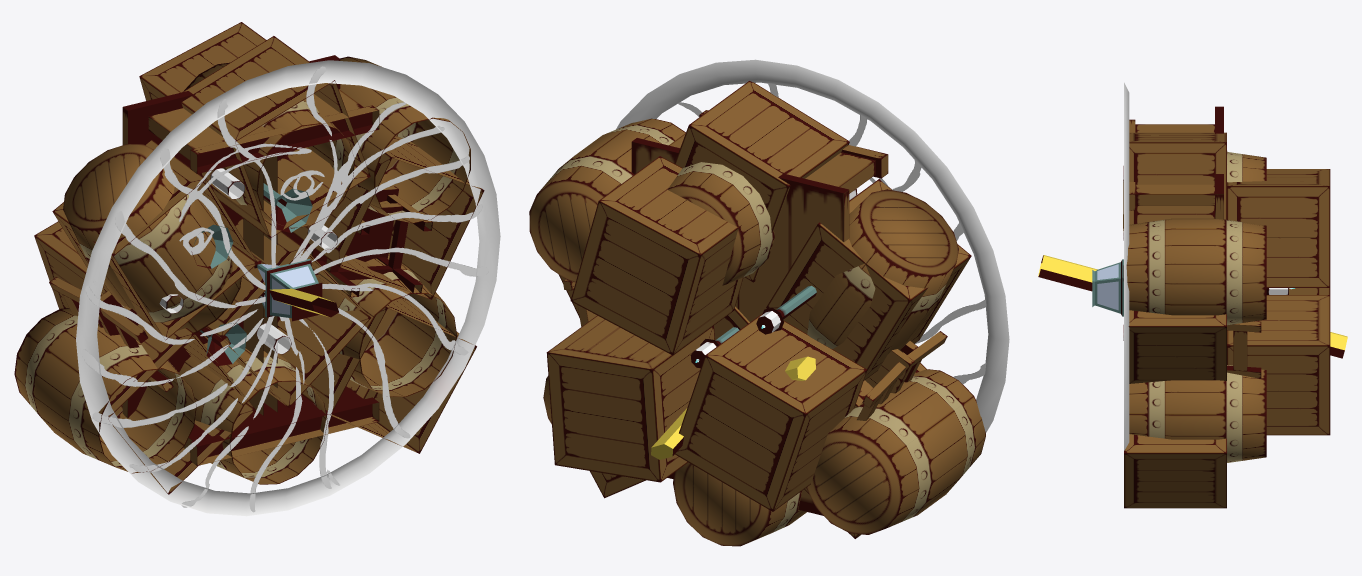
Rendered from DecorationPieces.fbx.
3 views of the same model, side by side, from view 1: azimuth 30°, elevation 25°; view 2: azimuth 150°, elevation 25°; view 3: azimuth 270°, elevation 25° (orthographic). The views are drawn at different scales.
Parts seen in each view (by area): view 1: Decoration_Barrels, Prop_Altar, Decoration_Boxes, Decoration_TableAndChairs, Decoration_Candleholders, Prop_Lantern; view 2: Decoration_Boxes, Decoration_Barrels, Prop_Altar, Decoration_TableAndChairs, Decoration_Candleholders; view 3: Decoration_Boxes, Decoration_Barrels, Decoration_TableAndChairs, Prop_Altar, Prop_Lantern.
Part boxes in pixels (x1,y1,x2,y2): Decoration_Barrels: [14, 56, 470, 484]; Prop_Altar: [76, 60, 500, 516]; Decoration_Boxes: [34, 22, 484, 494]; Decoration_TableAndChairs: [49, 55, 432, 465]; Decoration_Candleholders: [159, 168, 337, 366]; Prop_Lantern: [254, 258, 322, 321]; Decoration_Boxes: [546, 81, 971, 538]; Decoration_Barrels: [529, 118, 985, 546]; Prop_Altar: [616, 59, 1009, 459]; Decoration_TableAndChairs: [563, 110, 947, 515]; Decoration_Candleholders: [690, 189, 857, 368]; Decoration_Boxes: [1124, 132, 1330, 508]; Decoration_Barrels: [1123, 151, 1266, 462]; Decoration_TableAndChairs: [1129, 106, 1261, 378]; Prop_Altar: [1038, 82, 1347, 450]; Prop_Lantern: [1092, 259, 1123, 316].
Bounding box in the file's own units: 4 × 4 × 3.
1 material, 1 textured.
